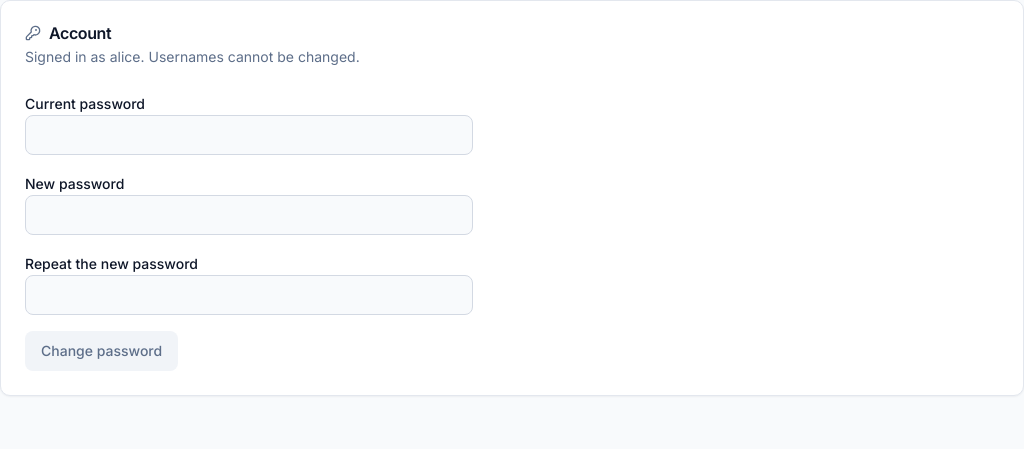
Scenario: ChangePasswordCard › shows the refusal of a wrong current password
The image size is (1024, 449).
Type "wrong" into the password field labelled "Current password" at (249, 135), box 25,115 -> 473,155
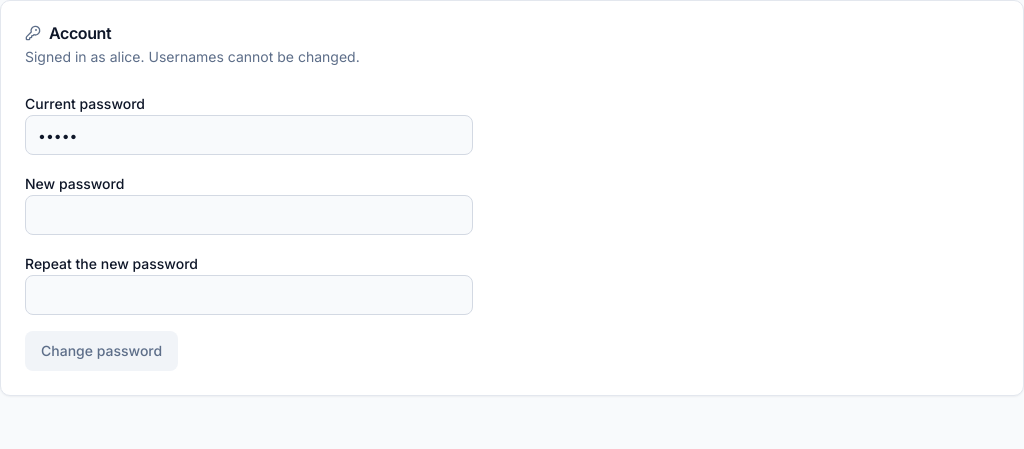
Type "new-password" into the password field labelled "New password" at (249, 215), box 25,195 -> 473,235
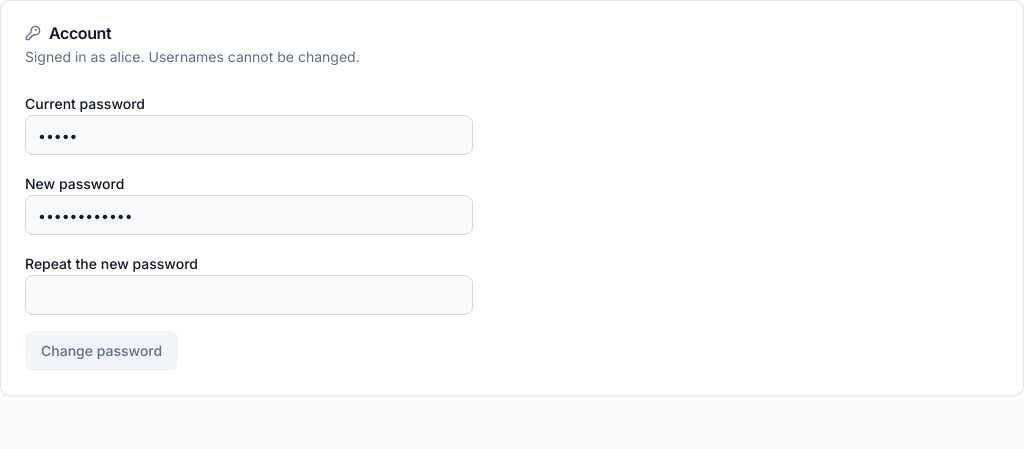
Type "new-password" into the password field labelled "Repeat the new password" at (249, 295), box 25,275 -> 473,315
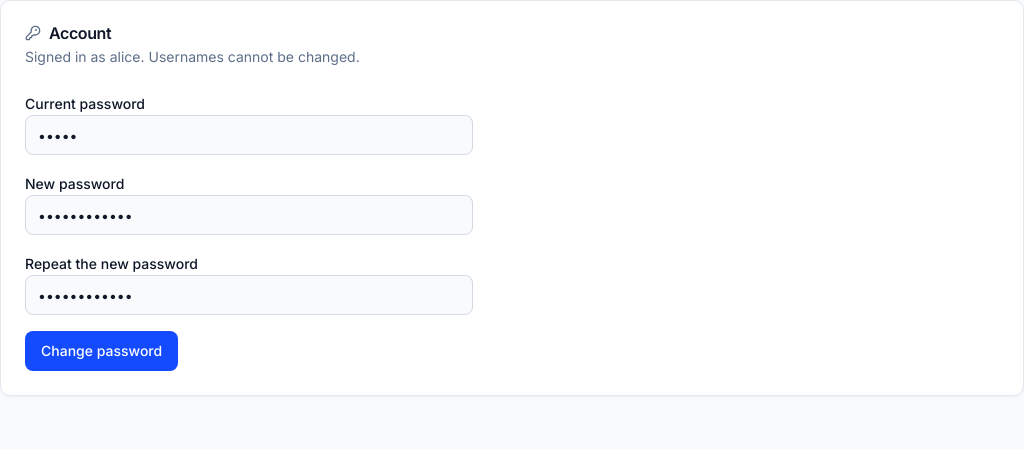
Click the button "Change password" at (102, 351), box 25,331 -> 178,371
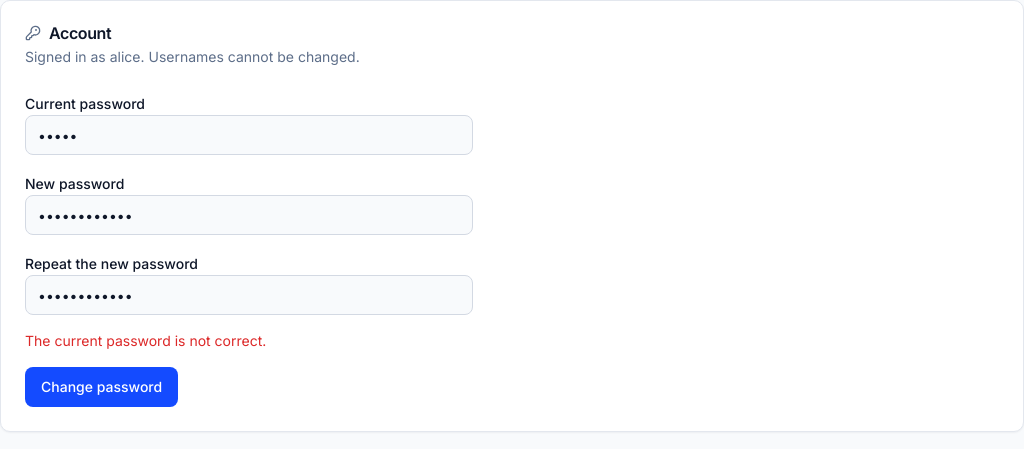
Expected: the text "The current password is not correct." is shown, 25,332 -> 266,349
